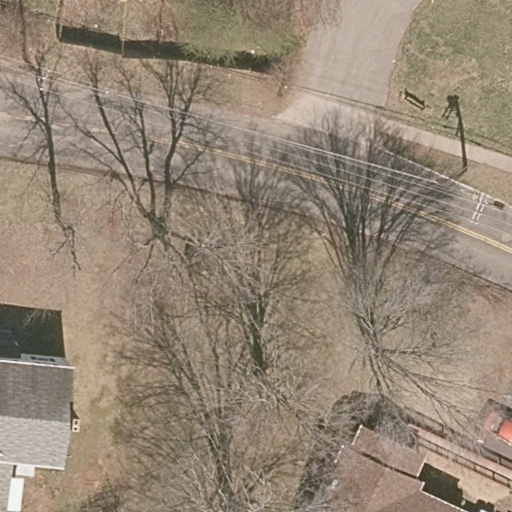DT: (466, 187, 502, 224)
